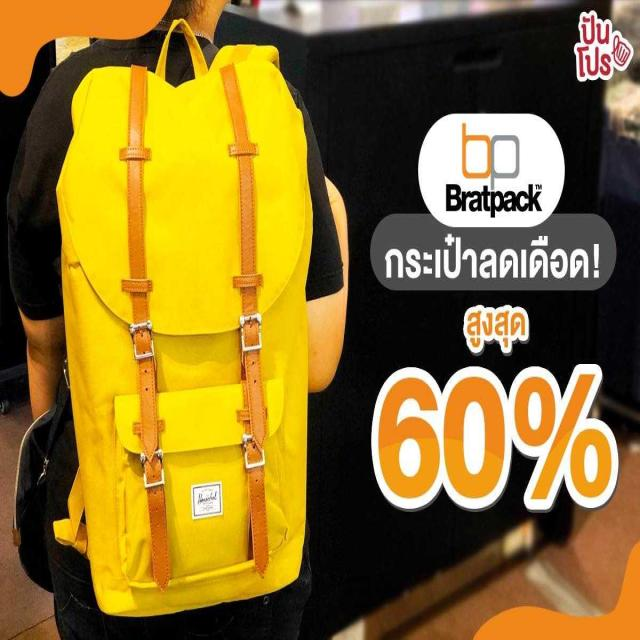Handbag: (54, 3, 314, 626)
